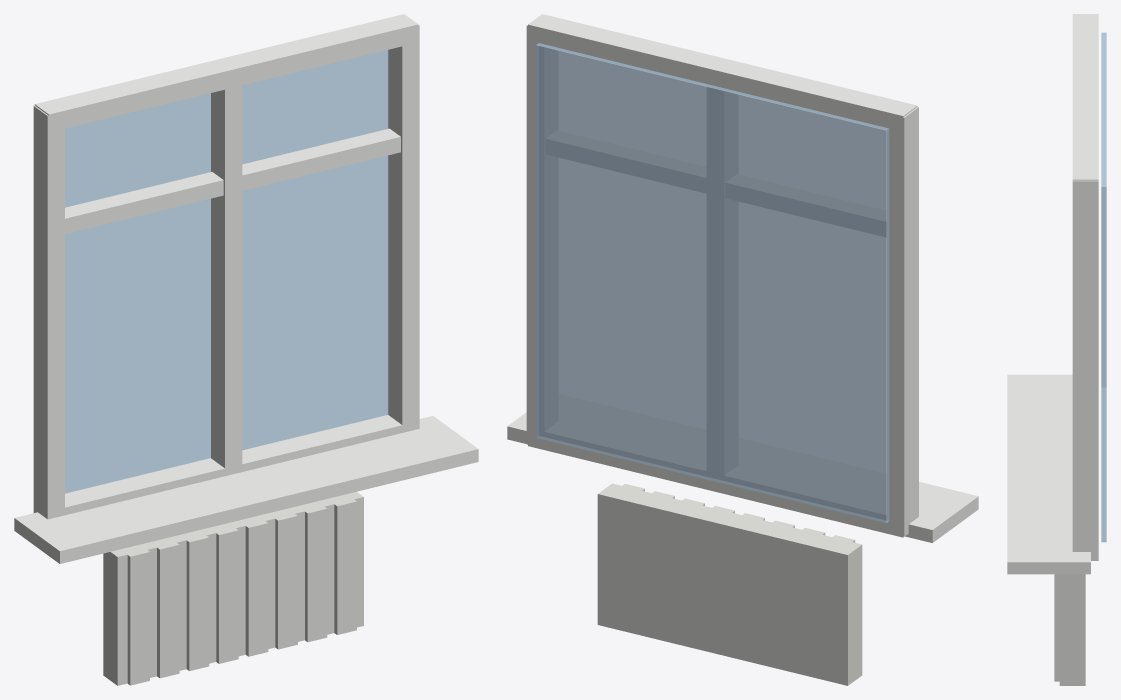
The model's file is window.glb.
3 renders of one model, left to right at view 1: azimuth 30°, elevation 25°; view 2: azimuth 150°, elevation 25°; view 3: azimuth 270°, elevation 25°, orthographic. The views are drawn at different scales.
Visible parts, largest first — view 1: window; view 2: window; view 3: window.
Part boxes in pixels (bbox=[...]): window: bbox=[14, 14, 478, 685]; window: bbox=[507, 14, 978, 685]; window: bbox=[1007, 14, 1106, 685].
Size of the model in its own units: 1.7 by 2.26 by 0.38.
